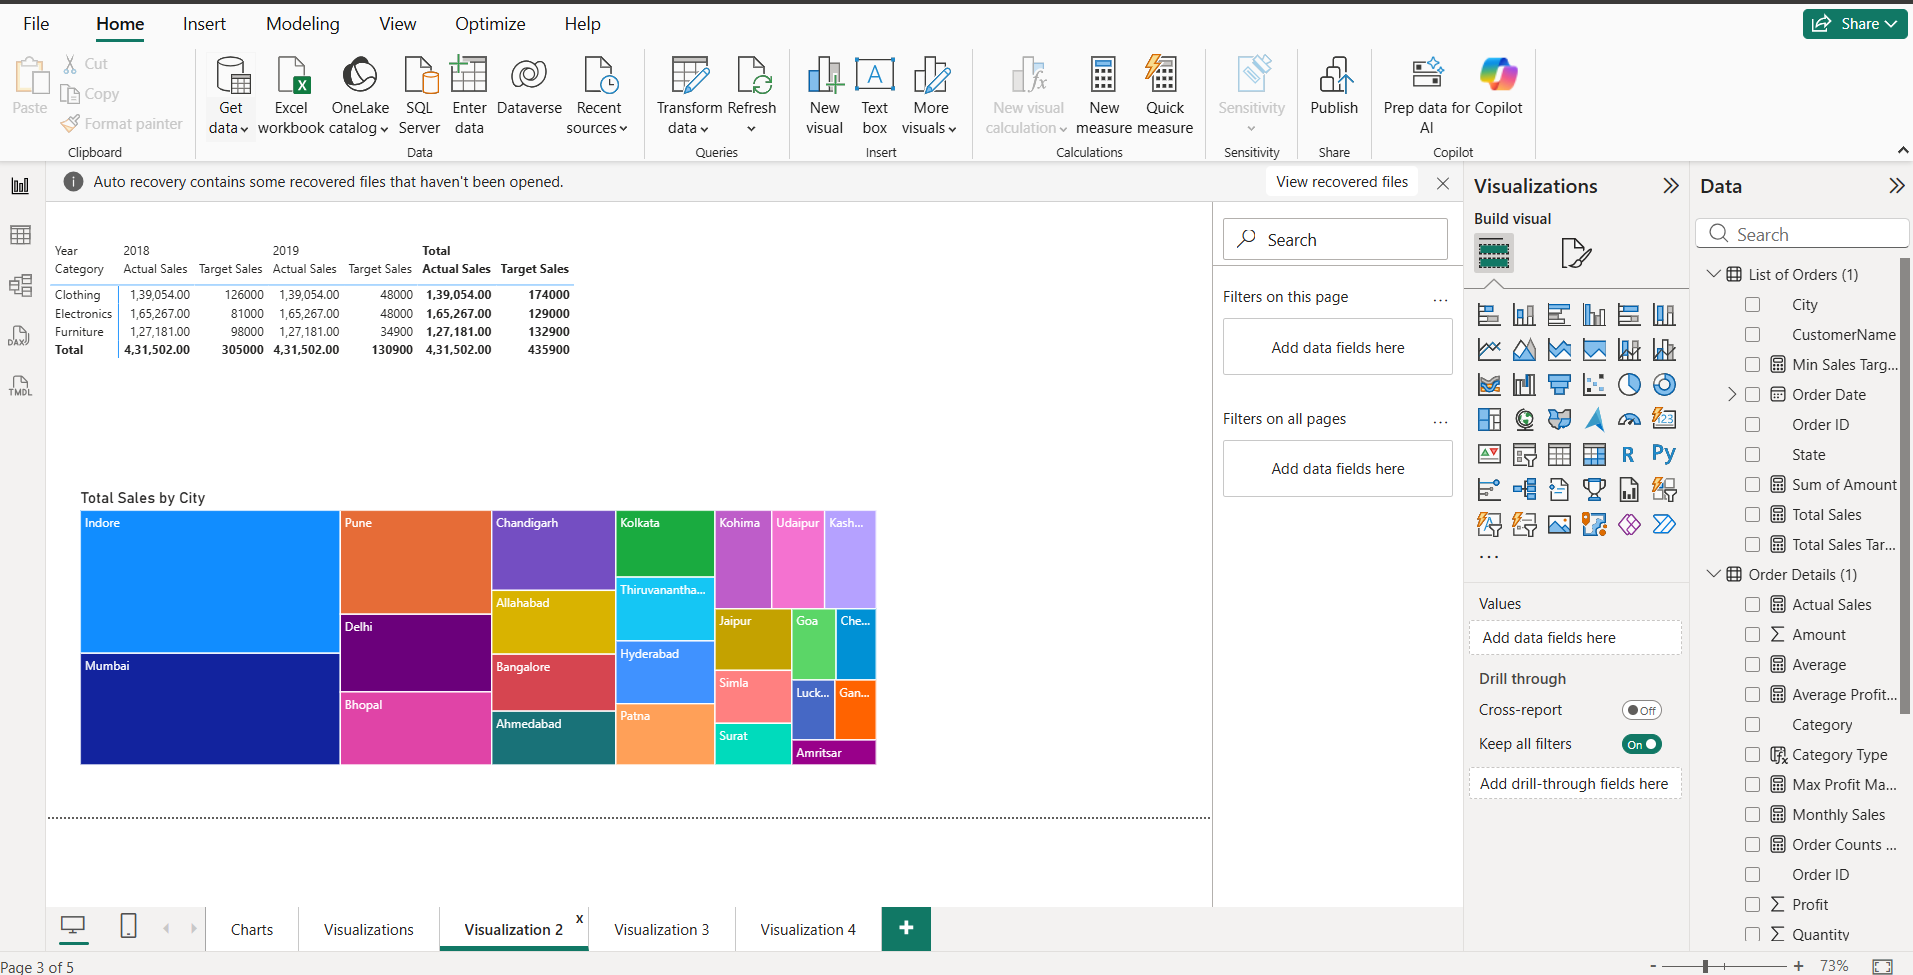

The page's visual inventory and layout, read from the dashboard file:
{"tool":"powerbi","page":{"name":"Visualization 2","canvas":[1280,720],"ordinal":2},"visuals":[{"type":"pivotTable","fields":{"Values":["Order Details (1).Actual Sales","Order Details (1).Measure"],"Rows":["Order Details (1).Category"],"Columns":["Sales target (1).Month of Order Date.Variation.Date Hierarchy.Year","Sales target (1).Month of Order Date.Variation.Date Hierarchy.Quarter","Sales target (1).Month of Order Date.Variation.Date Hierarchy.Month","Sales target (1).Month of Order Date.Variation.Date Hierarchy.Day"]},"box":[0,81.7,592.6,231.7],"z":0},{"type":"treemap","fields":{"Group":["List of Orders (1).City"],"Values":["List of Orders (1).Total Sales"]},"box":[32.9,359.5,883.7,308.7],"z":1000}]}

Visuals, with their boxes on the page's 1280x720 design canvas (x1, y1, x2, y2). These are canvas units, not pixel positions in the 1913x975 screenshot, which may show the page scaled, cropped or inside an application window:
pivotTable - Order Details (1).Actual Sales x Order Details (1).Measure: locate(0, 82, 593, 313)
treemap - List of Orders (1).City x List of Orders (1).Total Sales: locate(33, 360, 917, 668)
